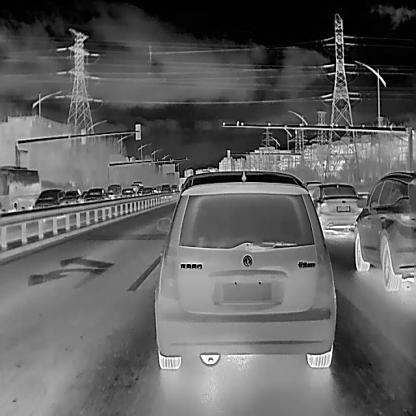car: (154, 170, 337, 369), (354, 171, 414, 289), (311, 183, 362, 238), (0, 164, 41, 214), (32, 188, 65, 209), (59, 189, 81, 205), (83, 188, 106, 202), (105, 184, 121, 198), (121, 188, 134, 196), (160, 183, 171, 192), (142, 186, 152, 195)
